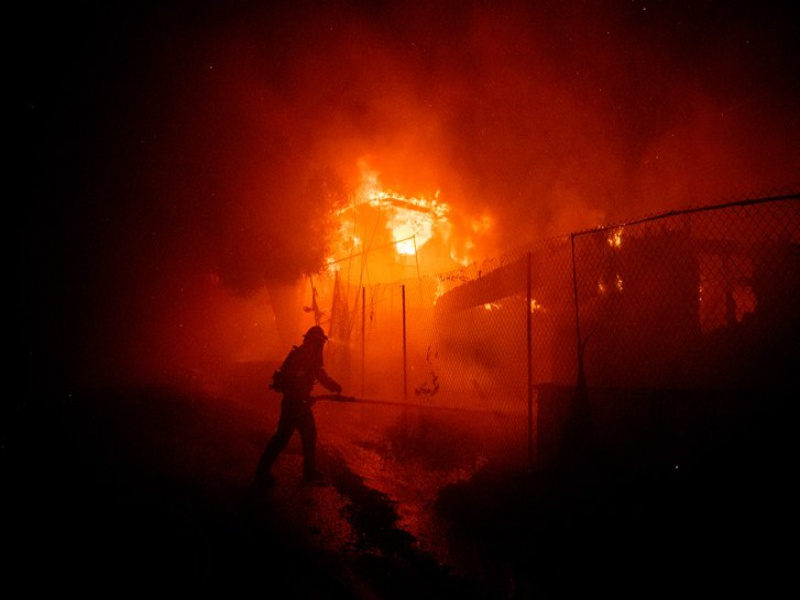fire: (326, 159, 452, 271), (426, 274, 453, 303), (453, 243, 479, 271), (599, 223, 626, 246), (527, 290, 542, 310)
